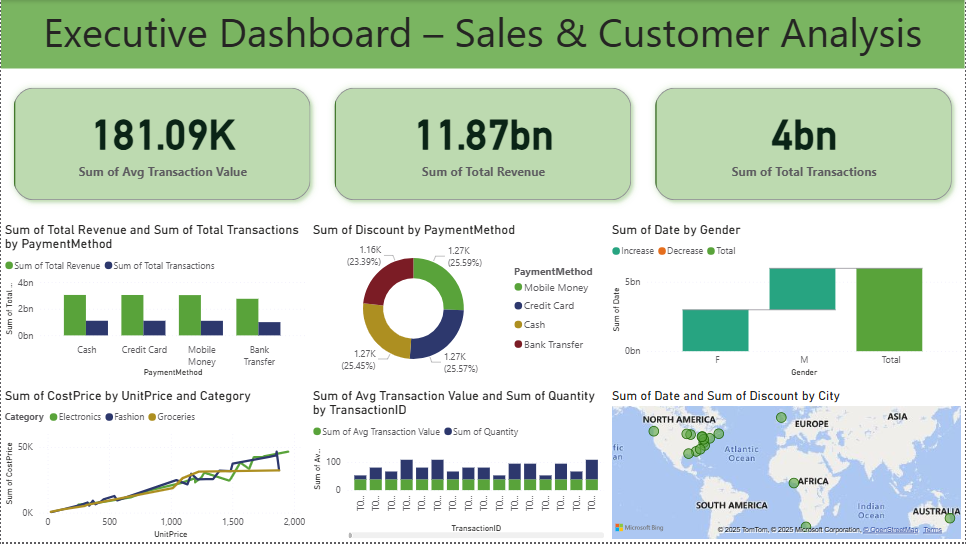

This screenshot's page, from the dashboard's own definition file:
{"tool":"powerbi","page":{"name":"Page 1","canvas":[1280,720],"ordinal":0},"visuals":[{"type":"lineChart","fields":{"Category":["Custome Product Info.UnitPrice"],"Y":["Sum(Custome Product Info.CostPrice)"],"Series":["Custome Product Info.Category"]},"box":[0,515.4,409.3,204.6],"z":0},{"type":"columnChart","fields":{"Category":["C Transaction Info.TransactionID"],"Y":["Sum(C Transaction Info.Avg Transaction Value)","Sum(C Transaction Info.Quantity)"]},"box":[409.3,515.4,397.3,204.6],"z":1000},{"type":"map","fields":{"Category":["Custome Info.City"],"Size":["Sum(C Transaction Info.Date)"]},"box":[806.6,515.4,473.5,204.6],"z":2000},{"type":"donutChart","fields":{"Y":["Sum(C Transaction Info.Discount)"],"Category":["C Transaction Info.PaymentMethod"]},"box":[409.3,294.3,397.3,210.6],"z":3000},{"type":"textbox","box":[0,0,1280,90.7],"z":4000},{"type":"lineClusteredColumnComboChart","fields":{"Category":["C Transaction Info.PaymentMethod"],"Y":["Sum(C Transaction Info.Total Revenue)","Sum(C Transaction Info.Total Transactions)"]},"box":[0,294.3,409.3,210.6],"z":5000},{"type":"waterfallChart","fields":{"Category":["CleanCustomers.Gender"],"Y":["Sum(C Transaction Info.Date)"]},"box":[806.6,294.3,473.5,210.6],"z":6000},{"type":"cardVisual","fields":{"Data":["Sum(C Transaction Info.Avg Transaction Value)","Sum(C Transaction Info.Total Revenue)","Sum(C Transaction Info.Total Transactions)"]},"box":[0,100.1,1280.2,183.7],"z":7000}]}

Visuals, with their boxes in screenshot pixels (x1, y1, x2, y2), scaled from the page's 1280x720 canvas onto the 966x544 screenshot:
lineChart - Custome Product Info.UnitPrice x Sum(Custome Product Info.CostPrice): 0/389/309/543
columnChart - C Transaction Info.TransactionID x Sum(C Transaction Info.Avg Transaction Value): 309/389/609/543
map - Custome Info.City x Sum(C Transaction Info.Date): 609/389/965/543
donutChart - Sum(C Transaction Info.Discount) x C Transaction Info.PaymentMethod: 309/222/609/381
textbox: 0/0/965/69
lineClusteredColumnComboChart - C Transaction Info.PaymentMethod x Sum(C Transaction Info.Total Revenue): 0/222/309/381
waterfallChart - CleanCustomers.Gender x Sum(C Transaction Info.Date): 609/222/965/381
cardVisual - Sum(C Transaction Info.Avg Transaction Value) x Sum(C Transaction Info.Total Revenue): 0/76/965/214
